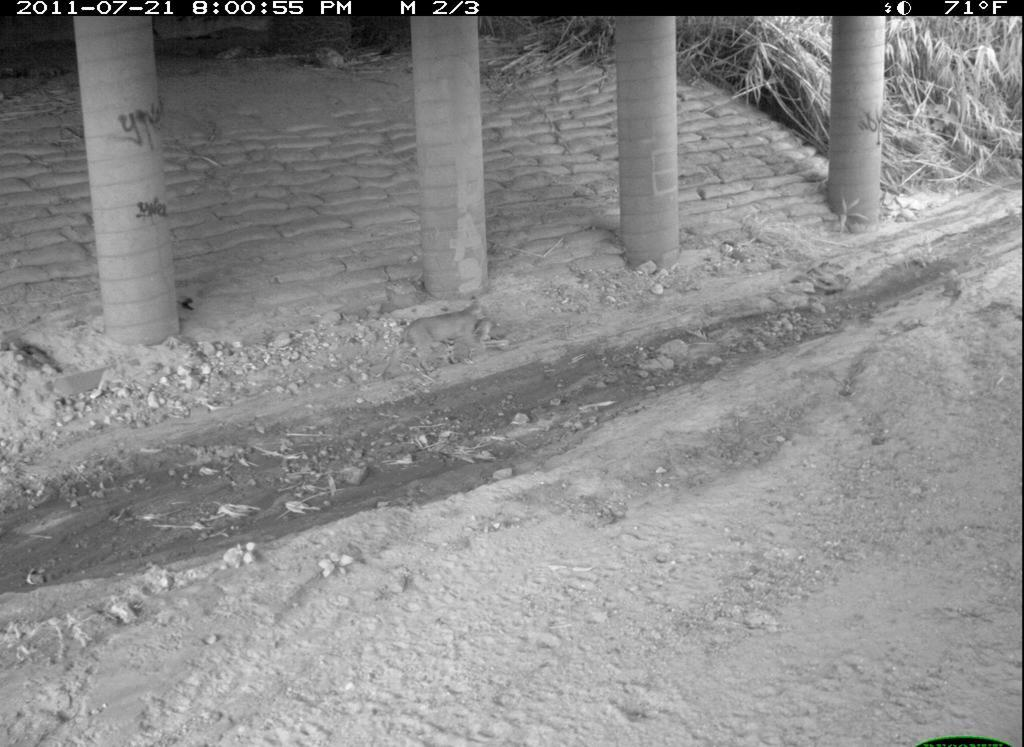bobcat: (764, 589, 991, 747)
rabbit: (940, 628, 996, 700)
